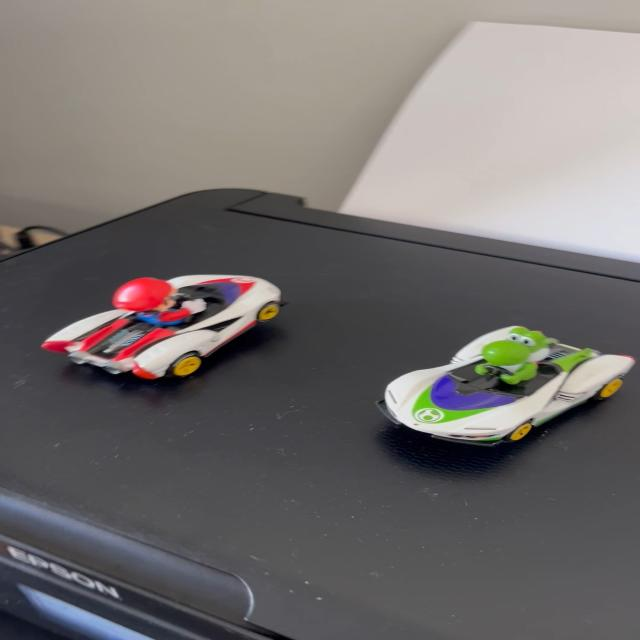mario: (25, 268, 297, 391)
yoshi: (364, 311, 637, 453)
